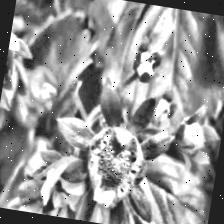Blossom Blight: (82, 125, 152, 205)
